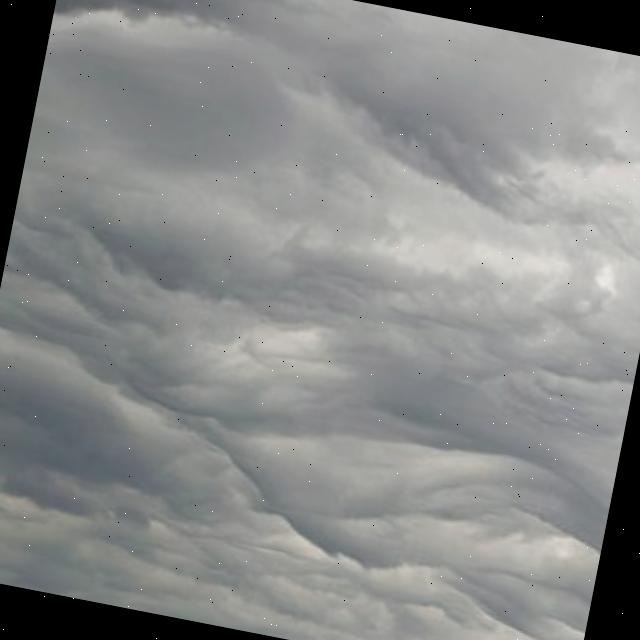As: (1, 1, 640, 621)
